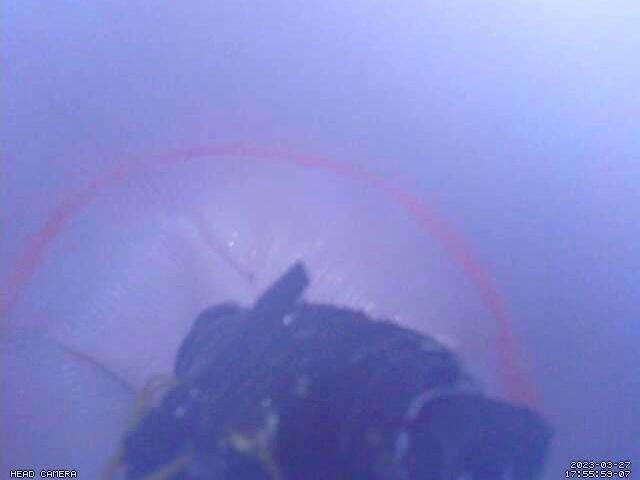head: (0, 143, 542, 412)
